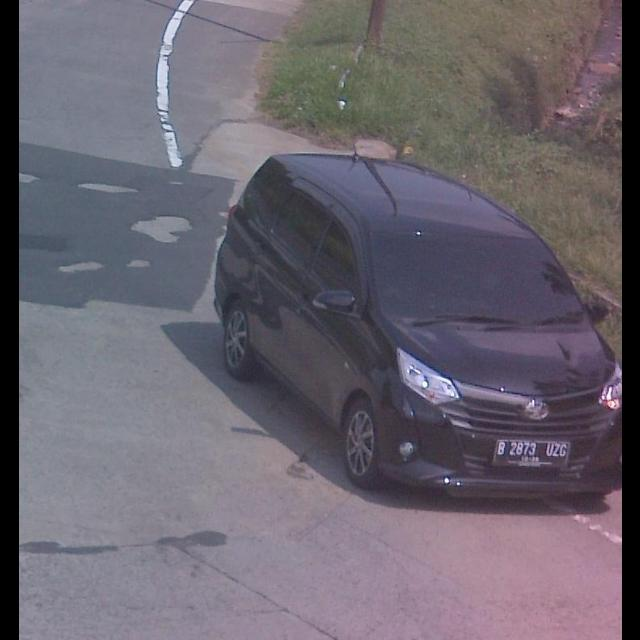plate: (495, 438, 573, 469)
